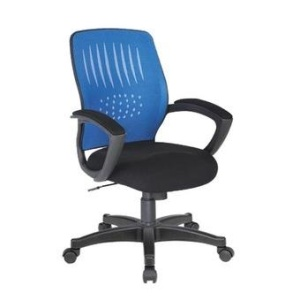chair: (62, 28, 235, 284)
